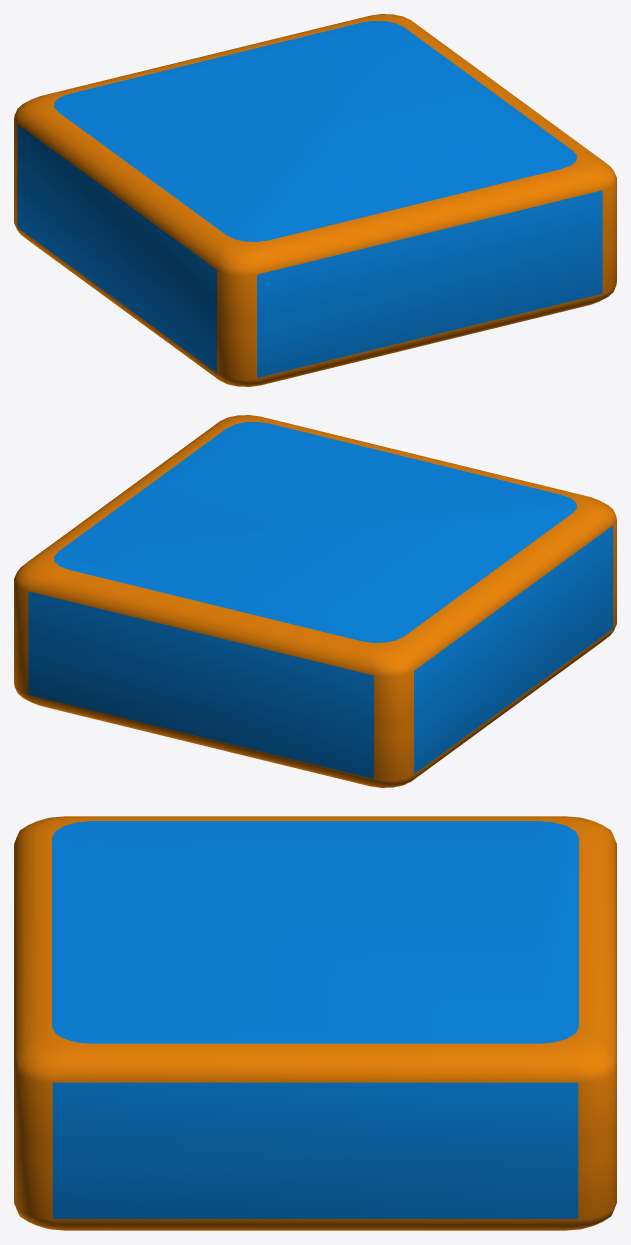
Rendered from FallingPlatform.fbx.
The picture shows the model from 3 angles, top to bottom: view 1: azimuth 30°, elevation 25°; view 2: azimuth 150°, elevation 25°; view 3: azimuth 270°, elevation 25°; orthographic projection. The views are drawn at different scales.
Parts seen in each view (by area): view 1: Falling_Platform; view 2: Falling_Platform; view 3: Falling_Platform.
Boxes of the visible parts, bbox=[...] form: Falling_Platform: bbox=[14, 14, 616, 386]; Falling_Platform: bbox=[14, 415, 616, 787]; Falling_Platform: bbox=[14, 816, 616, 1230].
Bounding box in the file's own units: 300 × 100 × 300.
